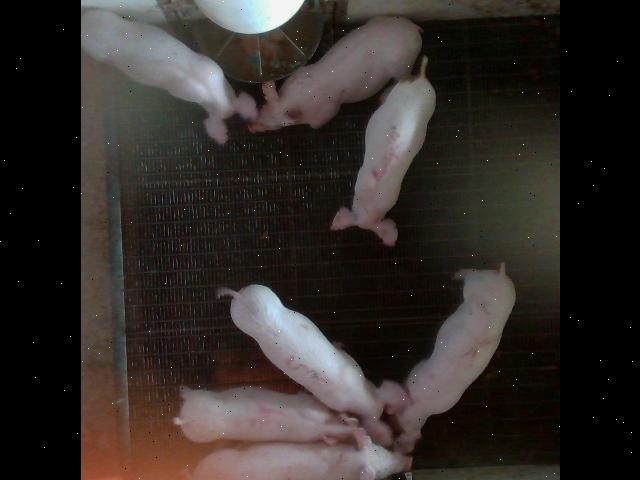pig-3: (216, 285, 406, 444)
pig-4: (173, 386, 360, 444)
pig-5: (331, 56, 435, 245)
